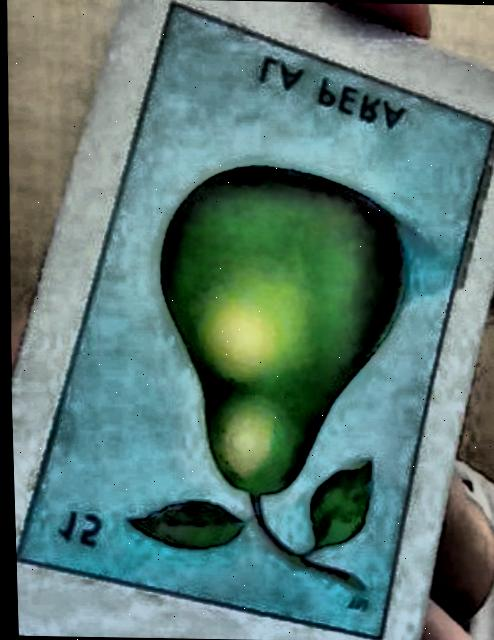La Pera: (13, 4, 493, 637)
